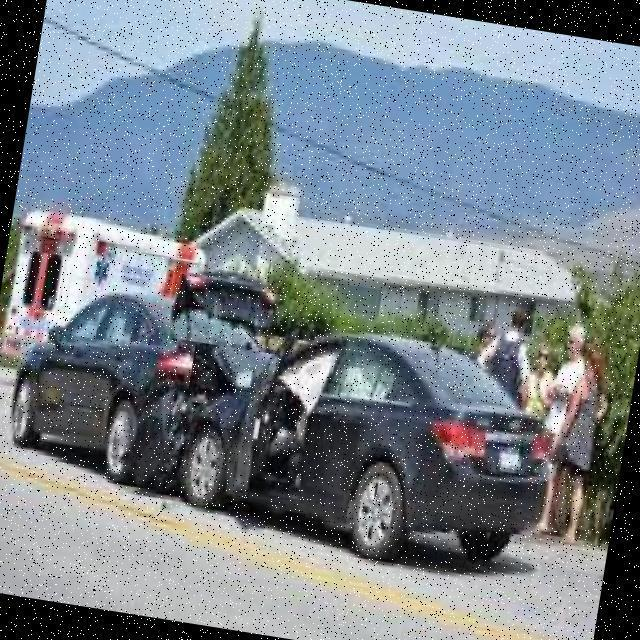accident: (0, 276, 573, 592)
